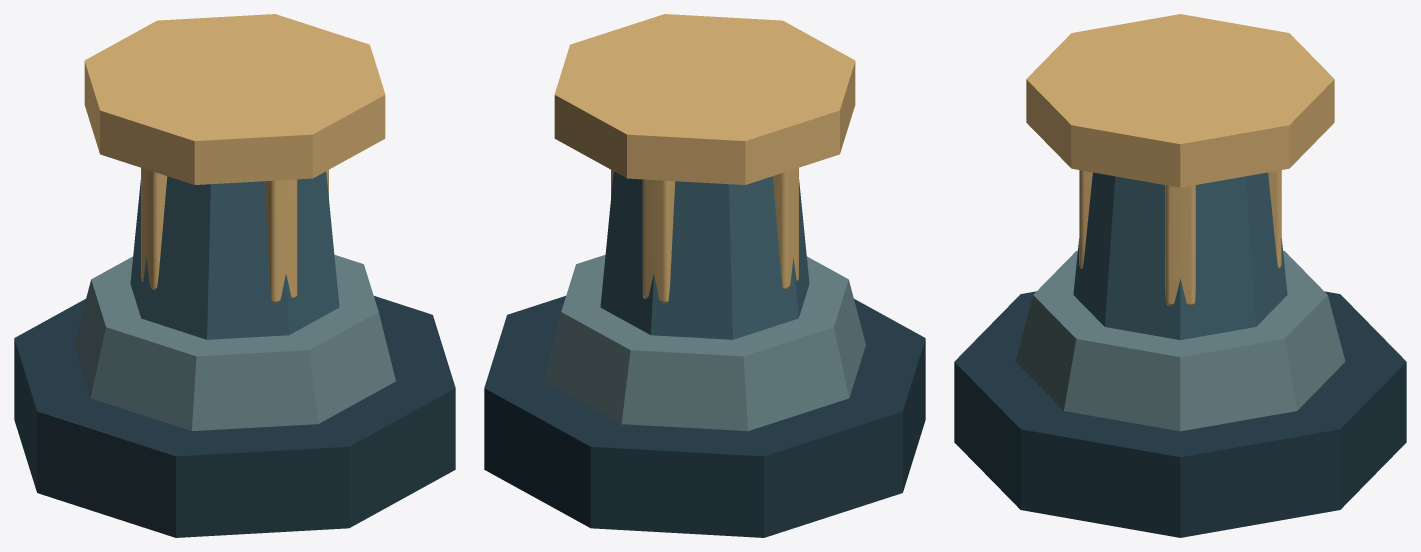
The model's file is beacon.glb.
3 views of the same model, side by side, from view 1: azimuth 30°, elevation 25°; view 2: azimuth 150°, elevation 25°; view 3: azimuth 270°, elevation 25° (orthographic).
Parts seen in each view (by area): view 1: Base, Bowl, Plinth, Column, Fin.003, Fin.002; view 2: Base, Bowl, Plinth, Column, Fin.001, Fin.002; view 3: Base, Bowl, Plinth, Column, Fin, Fin.001, Fin.003.
Part boxes in pixels (left/top/right/bottom): Base: left=14, top=296, right=455, bottom=537; Bowl: left=84, top=14, right=385, bottom=184; Plinth: left=74, top=254, right=395, bottom=431; Column: left=130, top=171, right=339, bottom=339; Fin.003: left=264, top=179, right=297, bottom=303; Fin.002: left=141, top=168, right=167, bottom=289; Base: left=484, top=296, right=925, bottom=537; Bowl: left=554, top=14, right=855, bottom=184; Plinth: left=544, top=254, right=865, bottom=431; Column: left=600, top=171, right=809, bottom=339; Fin.001: left=642, top=179, right=675, bottom=303; Fin.002: left=772, top=168, right=798, bottom=289; Base: left=954, top=291, right=1406, bottom=537; Bowl: left=1026, top=14, right=1334, bottom=187; Plinth: left=1015, top=250, right=1345, bottom=431; Column: left=1073, top=172, right=1287, bottom=339; Fin: left=1165, top=185, right=1195, bottom=305; Fin.001: left=1268, top=170, right=1281, bottom=268; Fin.003: left=1079, top=170, right=1092, bottom=268.
Size of the model in its own units: 1.32 by 1.17 by 1.32.
